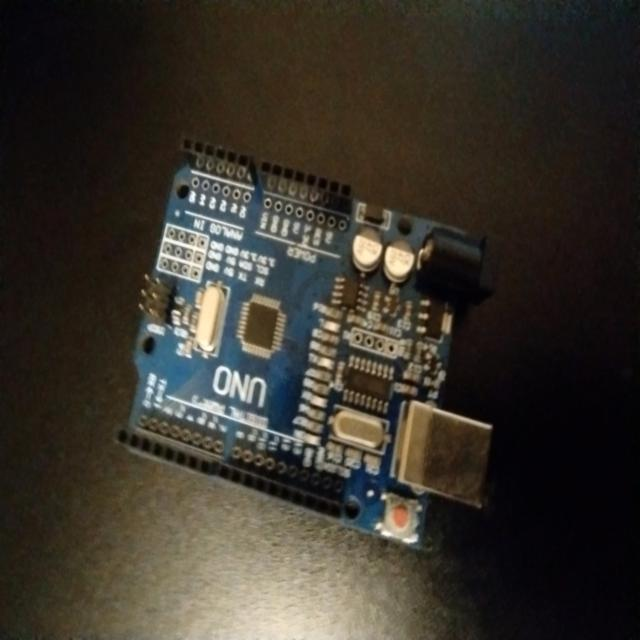arduino: (122, 110, 495, 562)
